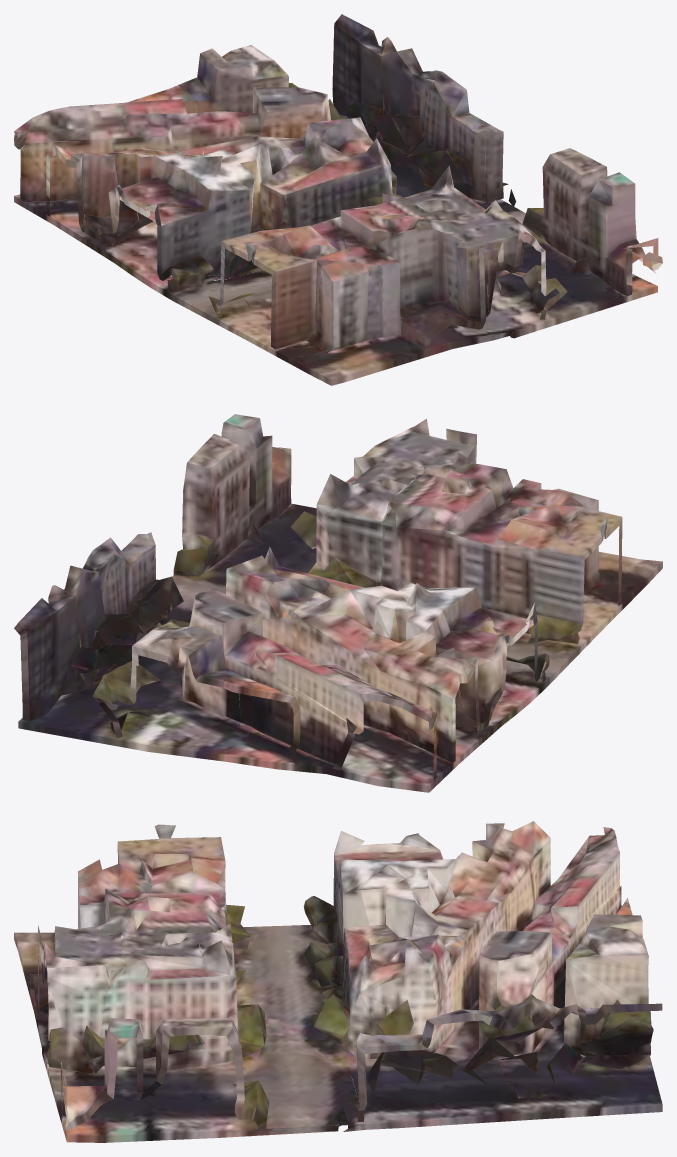
3 views of the same model, one above another, from view 1: azimuth 30°, elevation 25°; view 2: azimuth 150°, elevation 25°; view 3: azimuth 270°, elevation 25° (orthographic). The views are drawn at different scales.
Parts seen in each view (by area): view 1: Mesh_0; view 2: Mesh_0; view 3: Mesh_0.
Part boxes in pixels (<box>): Mesh_0: <box>14,14,662,385</box>; Mesh_0: <box>14,414,662,792</box>; Mesh_0: <box>14,821,662,1142</box>.
Bounding box in the file's own units: 135 × 35.92 × 165.
1 material, 1 textured.
